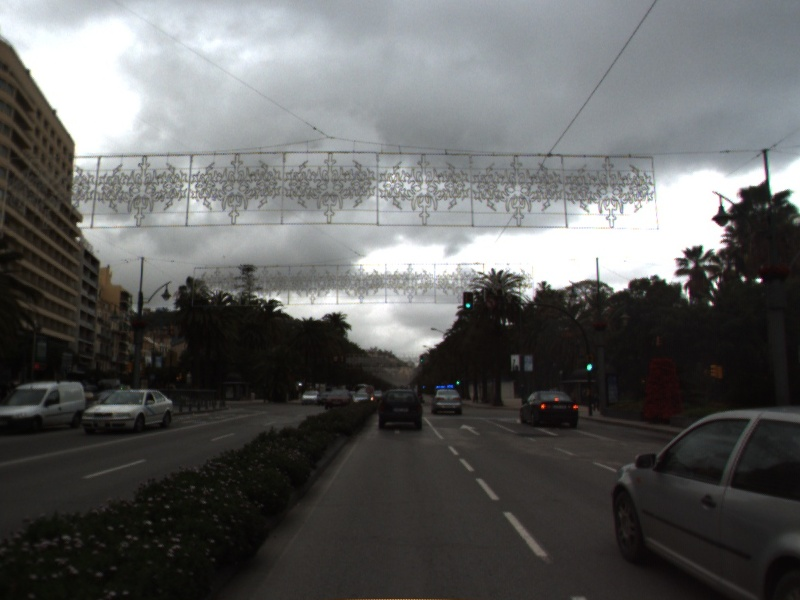STRAIGHT: (458, 422, 483, 437)
